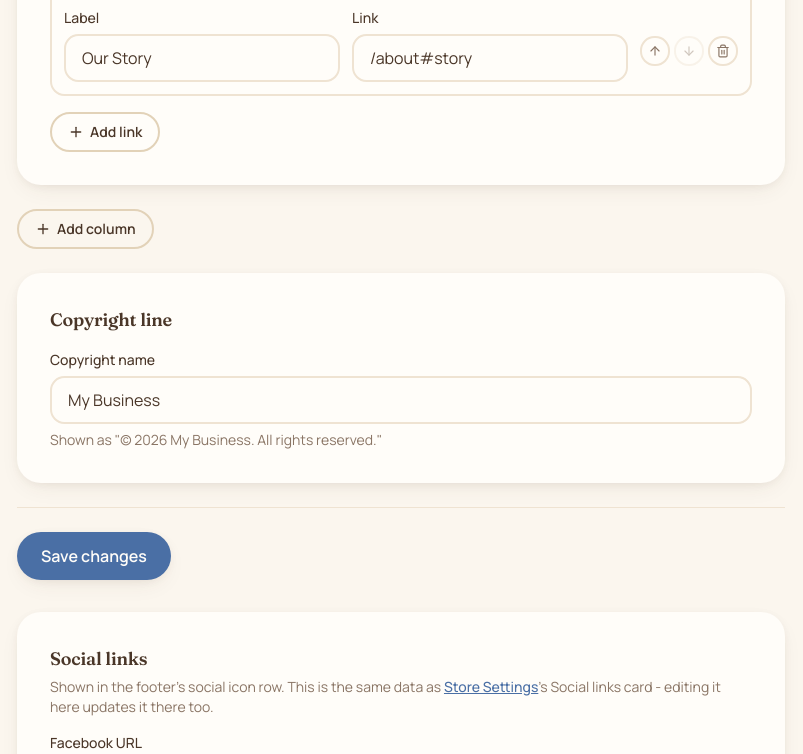
Test: FooterEditor › reset to defaults clears the override and restores the original groups and copyright
(page scrolled)
Replace the text in the field labelled "Copyright name" with "Acme Co" at point(401, 400), box [50, 376, 752, 424]
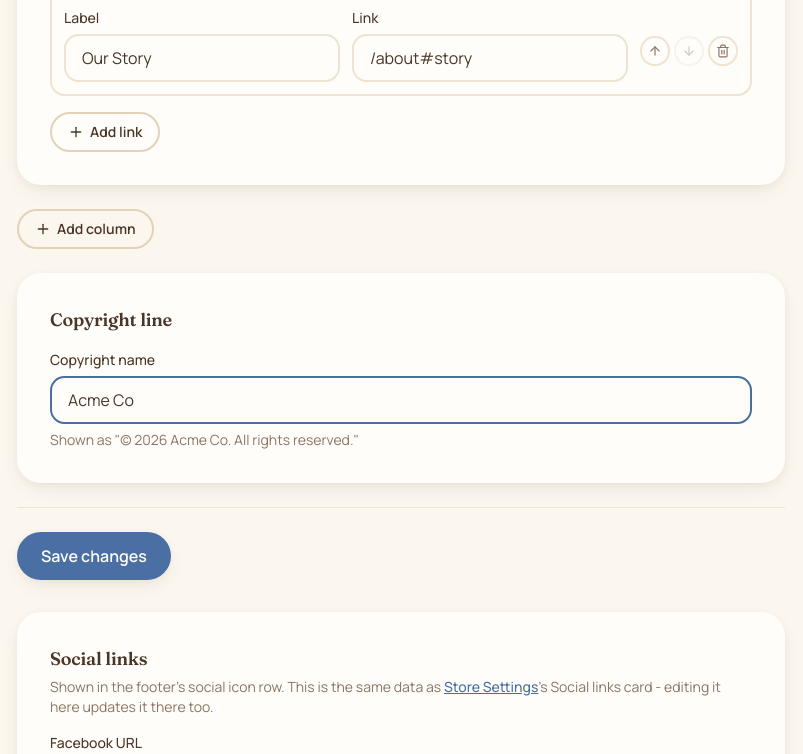
Click the button "Save changes".
click(94, 556)  # box [17, 532, 171, 580]
(page scrolled)
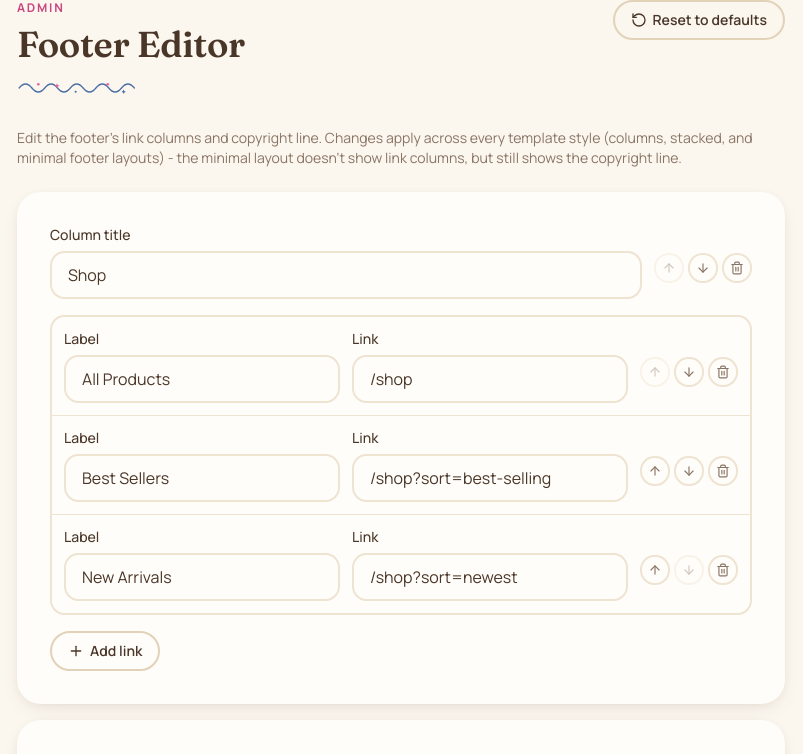
Click the button "Reset to defaults".
click(699, 20)  # box [612, 0, 785, 40]
(page scrolled)
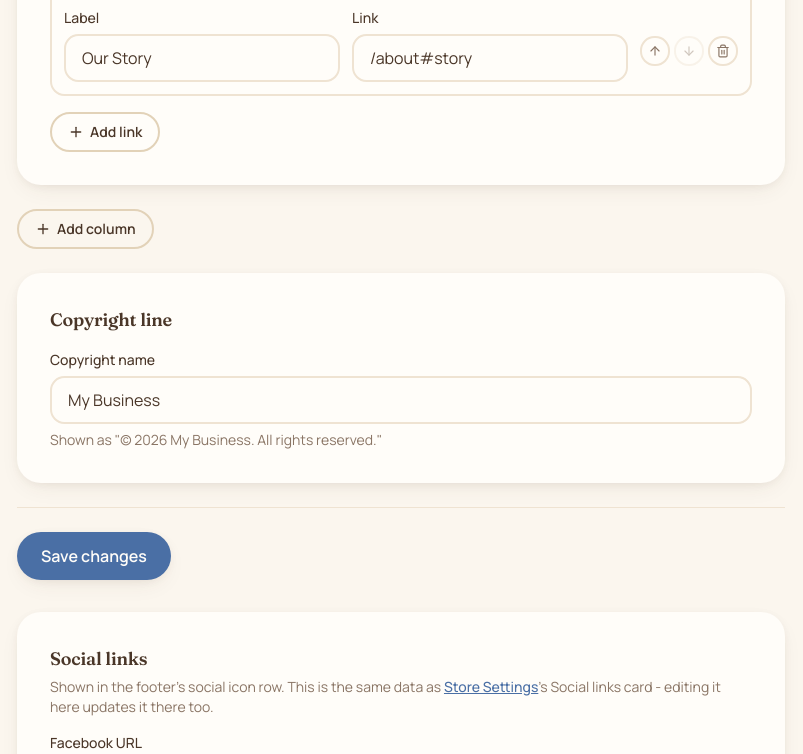
Result: the field labelled "Copyright name" holds "My Business" at [50, 376, 752, 424]
